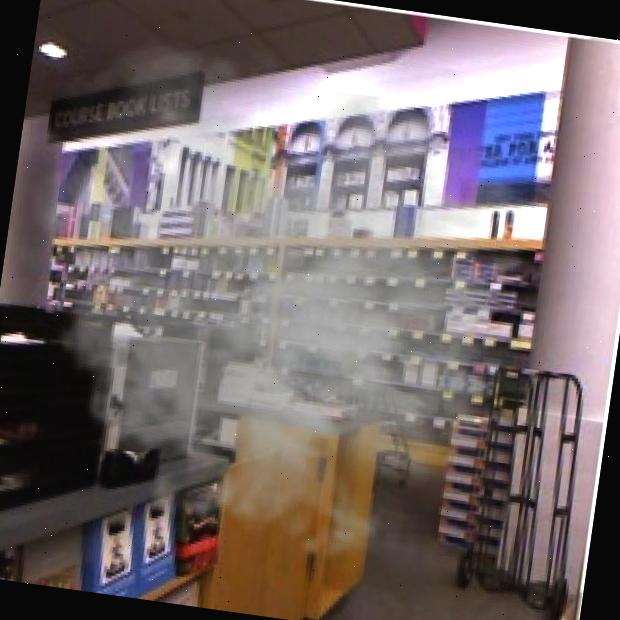smoke: (0, 11, 595, 605)
